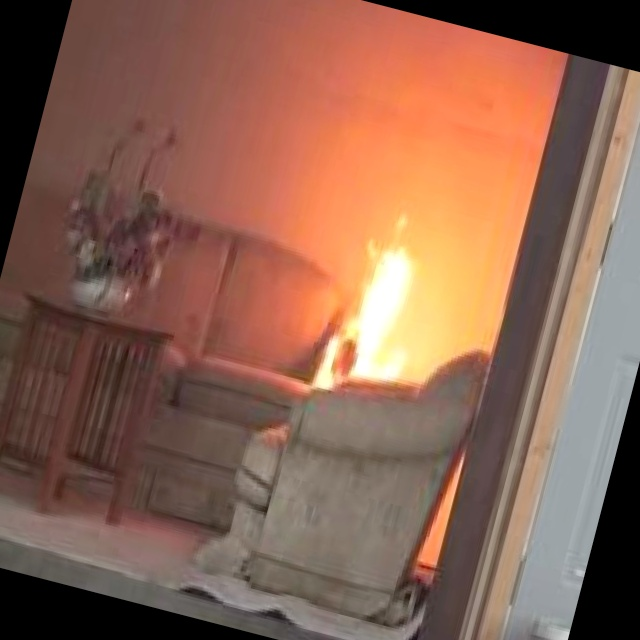fire: (316, 204, 457, 406)
